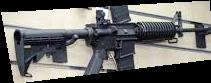gun: (1, 0, 211, 83)
